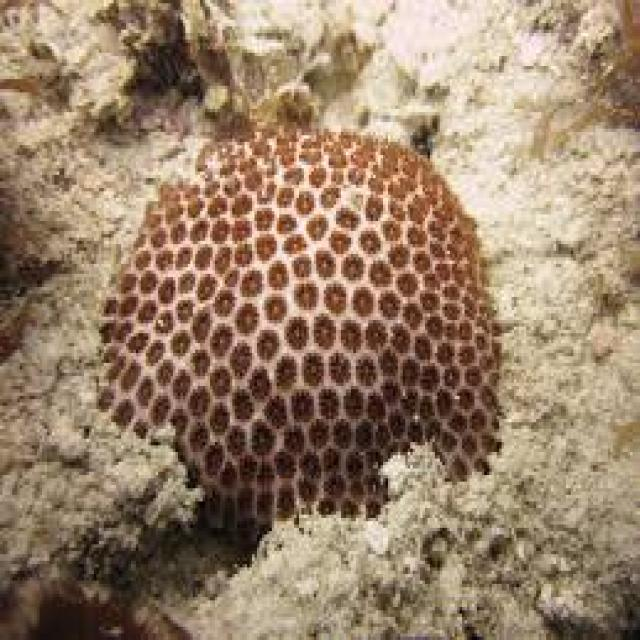Coral: (95, 126, 503, 546)
